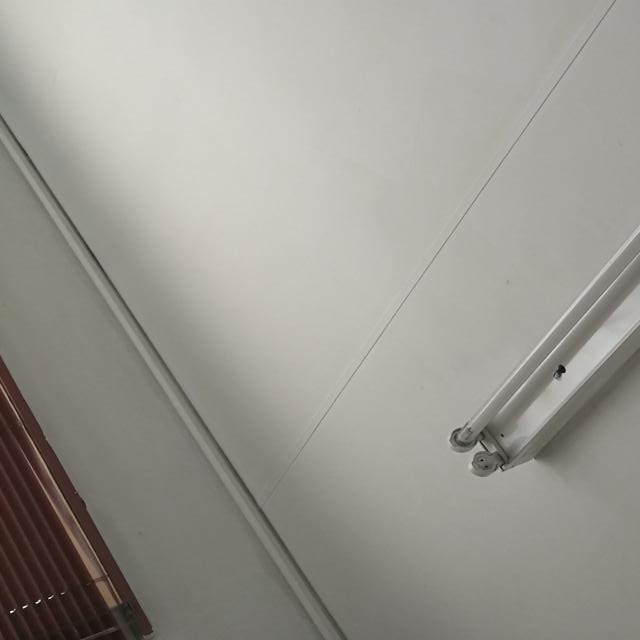fluorescent tube: (418, 0, 640, 502)
